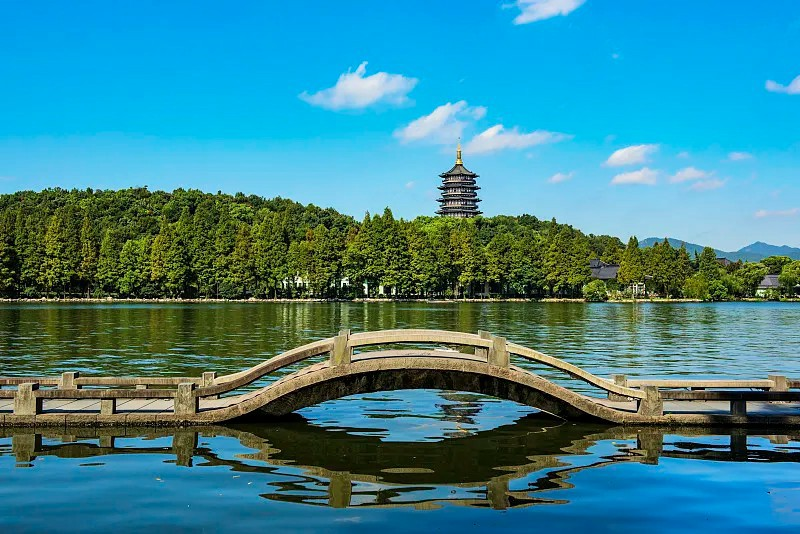Leifeng: (437, 134, 483, 220)
